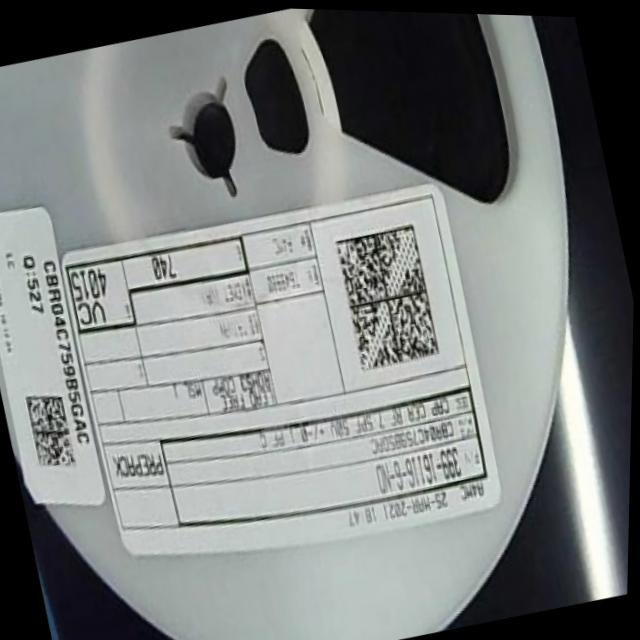datamatrix: (329, 215, 447, 378), (19, 386, 84, 480)
